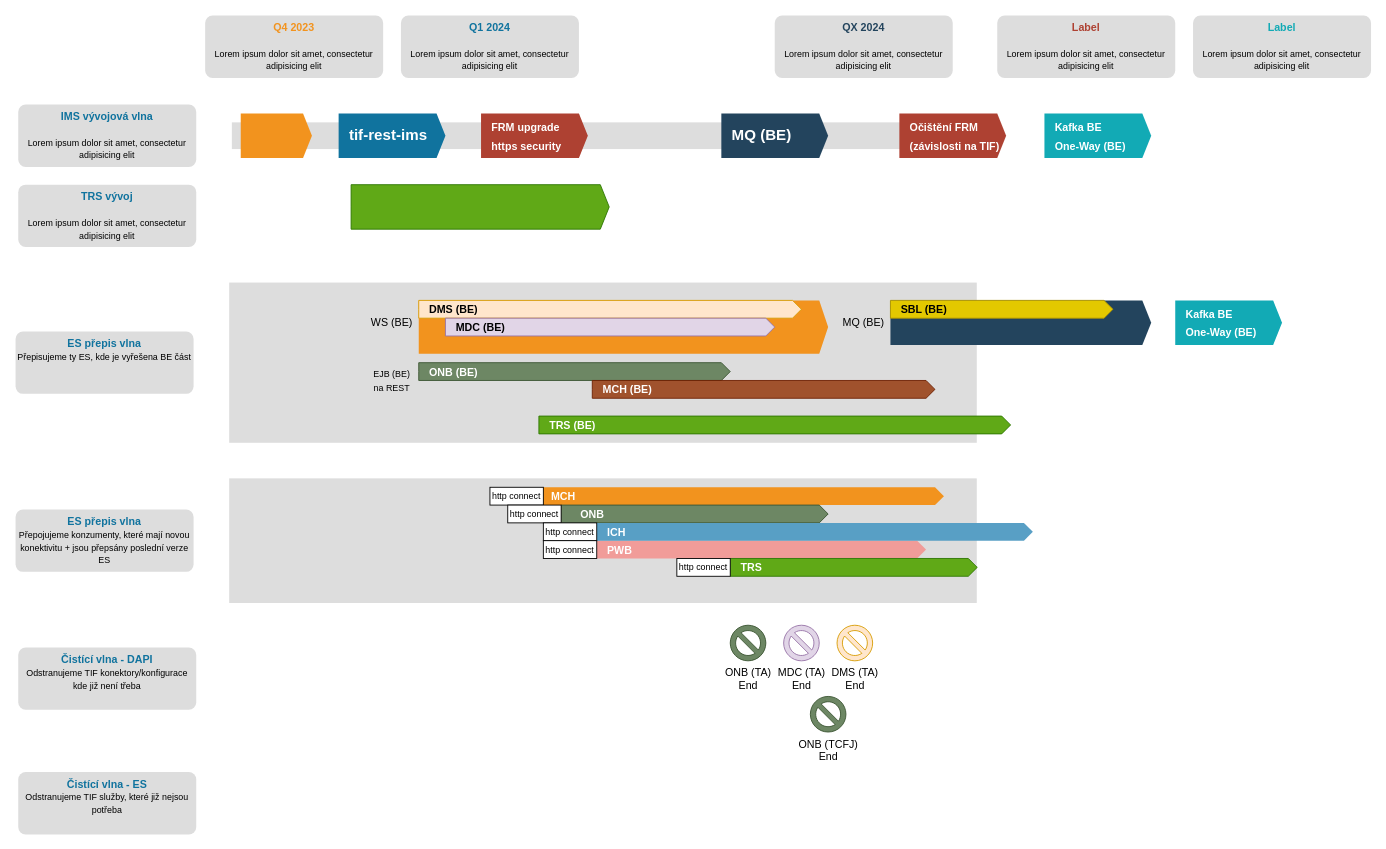
The diagram is 1386 pixels wide and 849 high, and some of its shapes have lost their labels. The box of each missing label's shape, as (x1, y1, x2, y2) in pixels:
TRS REST-adapter: (350, 184, 609, 229)
WS, REST (BE): (240, 113, 312, 158)
